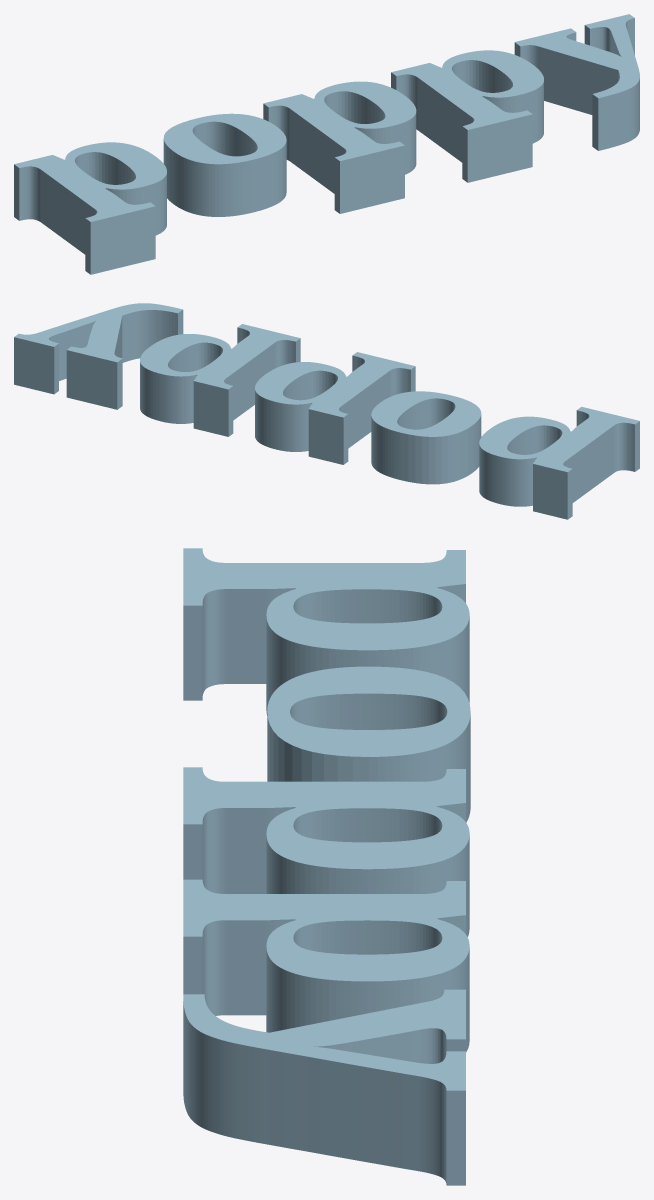
The model's file is Powerful Hillar-Sango (3).glb.
3 views of the same model, one above another, from view 1: azimuth 30°, elevation 25°; view 2: azimuth 150°, elevation 25°; view 3: azimuth 270°, elevation 25° (orthographic). The views are drawn at different scales.
Parts seen in each view (by area): view 1: Mesh_Mesh_head_geo.001_lambert2SG.001; view 2: Mesh_Mesh_head_geo.001_lambert2SG.001; view 3: Mesh_Mesh_head_geo.001_lambert2SG.001.
Boxes of the visible parts, left/top/right/bottom form: Mesh_Mesh_head_geo.001_lambert2SG.001: left=14, top=14, right=639, bottom=274; Mesh_Mesh_head_geo.001_lambert2SG.001: left=14, top=303, right=639, bottom=519; Mesh_Mesh_head_geo.001_lambert2SG.001: left=183, top=548, right=470, bottom=1185.
Bounding box in the file's own units: 0.0979 × 0.008 × 0.0219.
